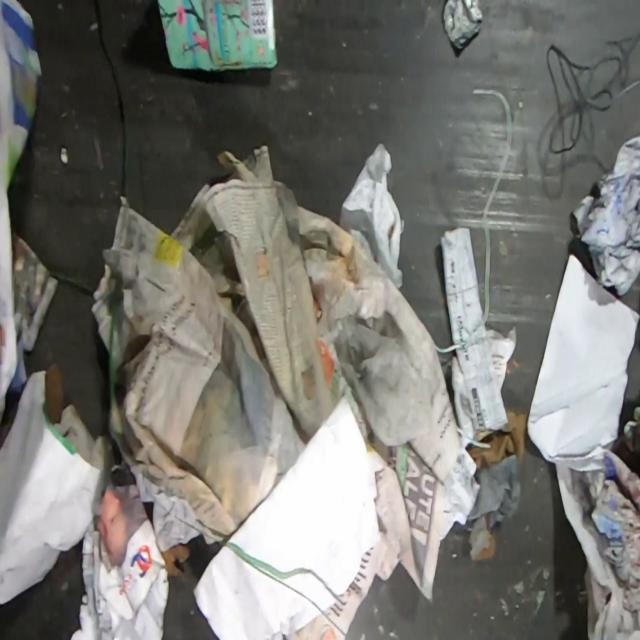cardboard: (156, 0, 280, 73)
